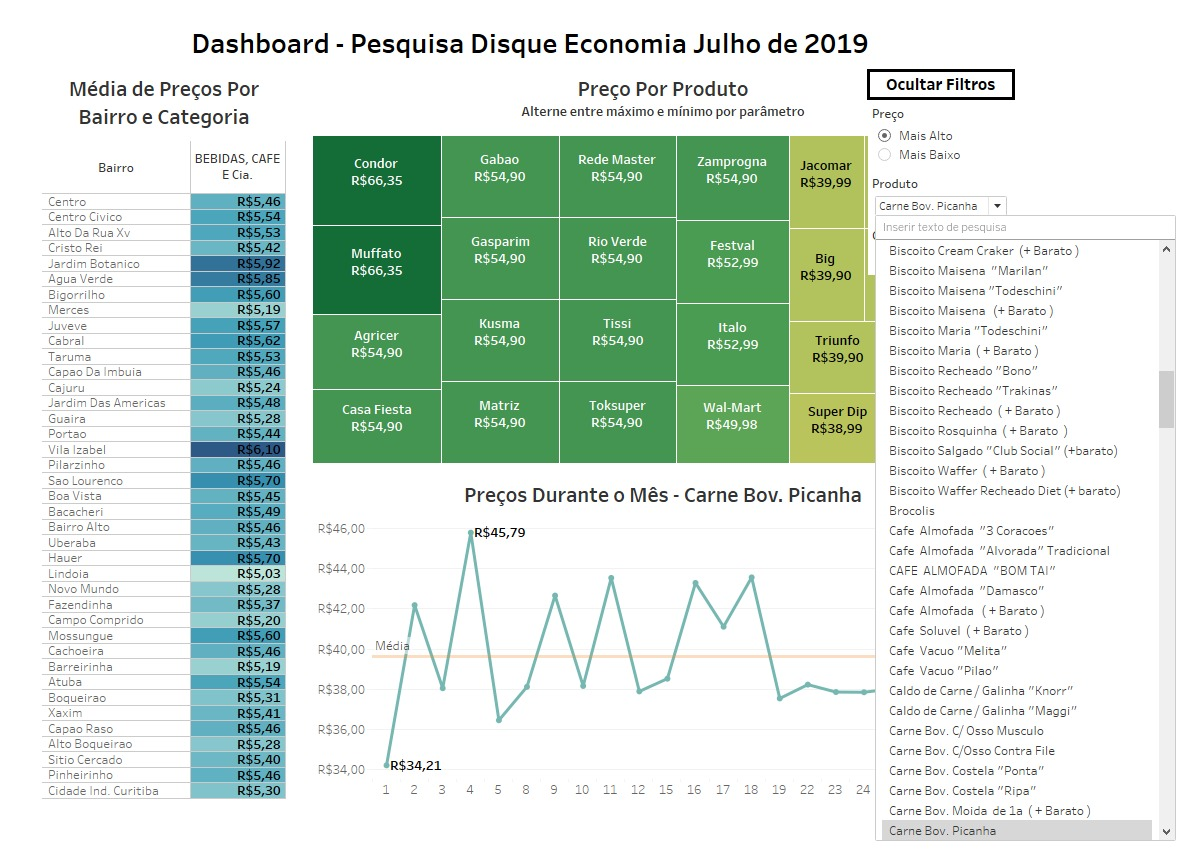

This screenshot's page, from the dashboard's own definition file:
{"tool":"tableau","page":{"name":"Painel 2","canvas":[1000,800],"ordinal":1},"visuals":[{"type":"text","box":[8,8,984,47]},{"type":"worksheet","title":"Média de Preços Por Bairro e Categoria","mark":"Square","rows":["cd_bairro","ds_bairro"],"cols":["ds_categoria"],"box":[8,55,266,737]},{"type":"worksheet","title":"Planilha 10","mark":"Automatic","box":[274,55,718,406]},{"type":"dashboard-object","box":[837,58,148,31]},{"type":"parameter","param":"[Parameters].[Parâmetro 1]","box":[838,90,146,70]},{"type":"filter","title":"Planilha 10","param":"[federated.1x7321l0k0bvtz11mo9ry00vpsfd].[none:ds_produto:nk]","box":[838,160,146,52]},{"type":"filter","title":"Média de Preços Por Bairro e Categoria","param":"[federated.1x7321l0k0bvtz11mo9ry00vpsfd].[none:ds_categoria:nk]","box":[838,212,146,52]},{"type":"worksheet","title":"Preço dos Produtos Por Dia","mark":"Automatic","rows":["ds_produto","vl_preco_pesquisado"],"cols":["dt_referencia"],"box":[274,461,718,331]}]}

Visuals, with their boxes on the page's 1000x800 design canvas (x1, y1, x2, y2). These are canvas units, not pixel positions in the 1200x858 screenshot, which may show the page scaled, cropped or inside an application window:
text: region(8, 8, 992, 55)
"Média de Preços Por Bairro e Categoria" worksheet (Square marks): region(8, 55, 274, 792)
"Planilha 10" worksheet: region(274, 55, 992, 461)
dashboard-object: region(837, 58, 985, 89)
parameter: region(838, 90, 984, 160)
"Planilha 10" filter: region(838, 160, 984, 212)
"Média de Preços Por Bairro e Categoria" filter: region(838, 212, 984, 264)
"Preço dos Produtos Por Dia" worksheet: region(274, 461, 992, 792)
